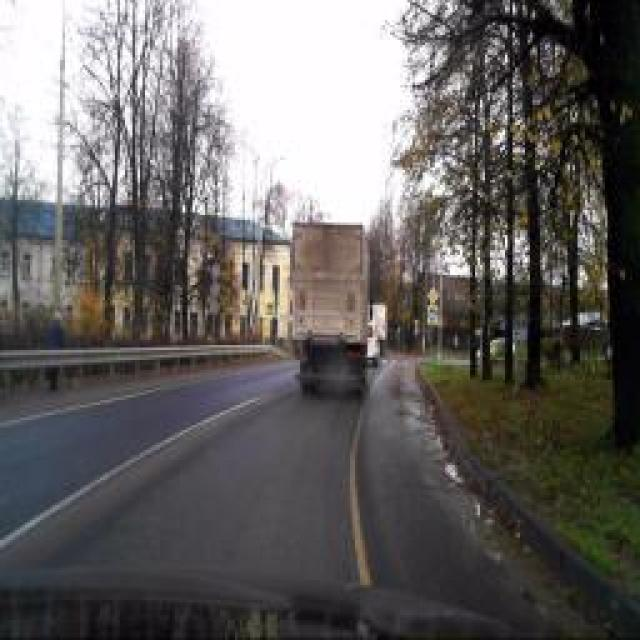sign: (426, 286, 439, 304)
